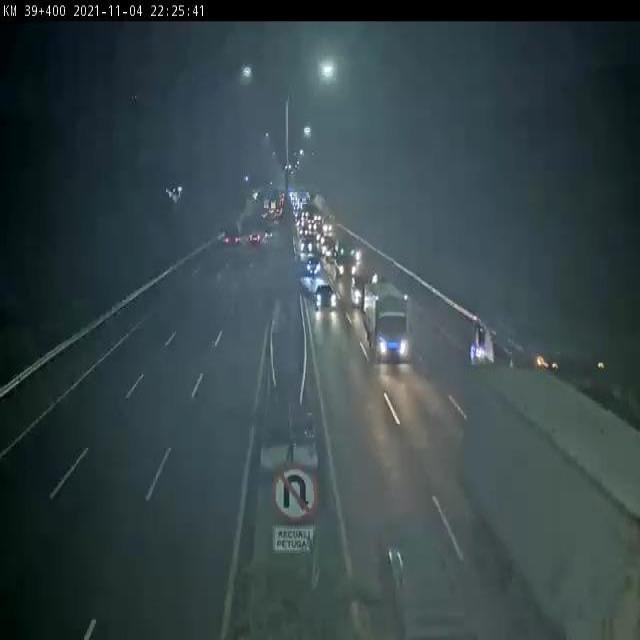bus-l-: (468, 318, 554, 362)
car: (310, 271, 332, 309), (243, 225, 263, 252)
truck-m-: (366, 280, 410, 364)
truck-xl-: (450, 349, 640, 640)
